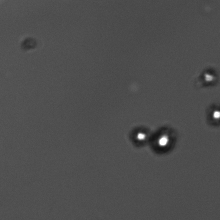Dead Cell: (19, 35, 39, 53)
Living Cell: (150, 123, 177, 156), (129, 124, 151, 146), (199, 68, 219, 87), (208, 103, 220, 124)
